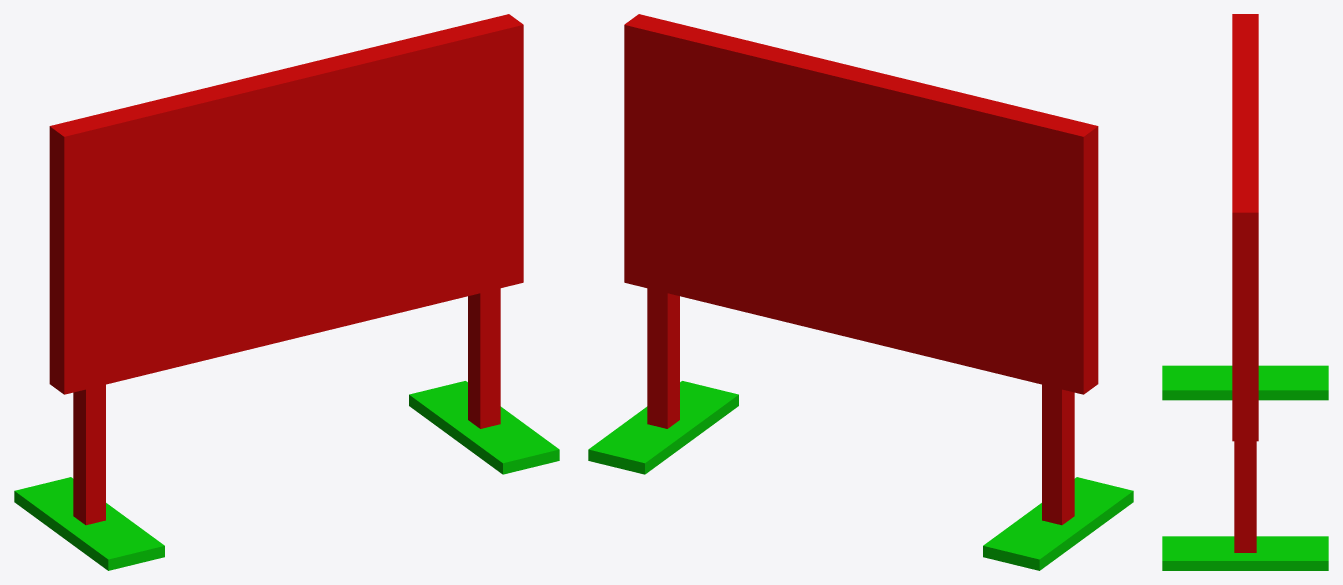
Rendered from SM_ScoreSign.fbx.
3 renders of one model, left to right at view 1: azimuth 30°, elevation 25°; view 2: azimuth 150°, elevation 25°; view 3: azimuth 270°, elevation 25°, orthographic. The views are drawn at different scales.
Visible parts, largest first — view 1: pCube10; view 2: pCube10; view 3: pCube10.
Part boxes in pixels (x1,y1,x2,y2): pCube10: (14,14,559,570); pCube10: (588,14,1133,570); pCube10: (1162,14,1328,570).
Bounding box in the file's own units: 18.04 × 15.23 × 6.38.
